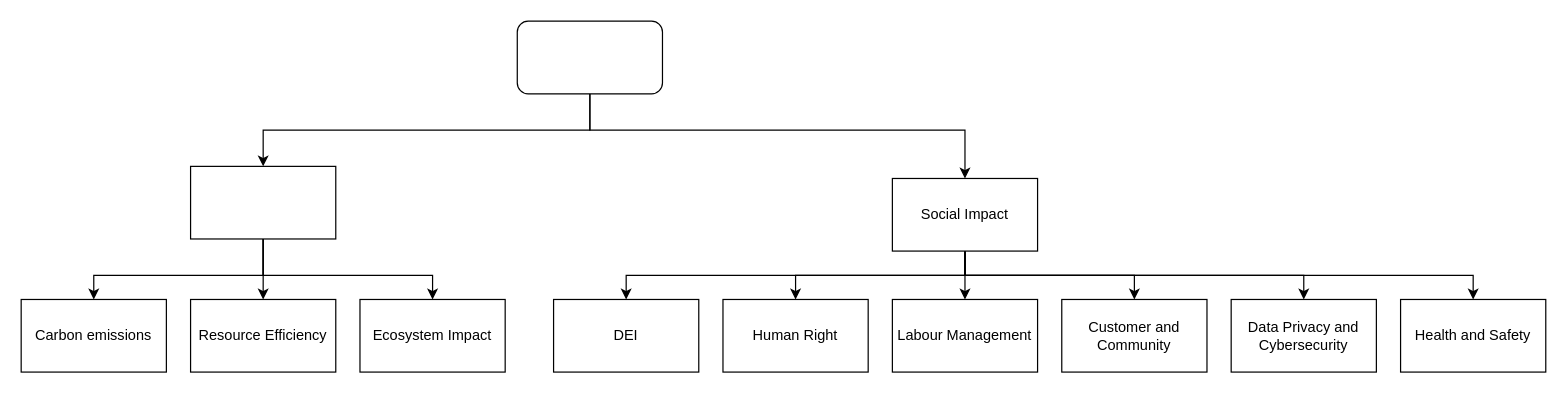
This 1567x393 diagram has some shape labels left out. The box of each missing label's shape, as (x1, y1, x2, y2) in pixels:
AI-Fraud detection and Its Effects: (516, 20, 662, 94)
Enviornment Impact: (189, 165, 336, 239)
